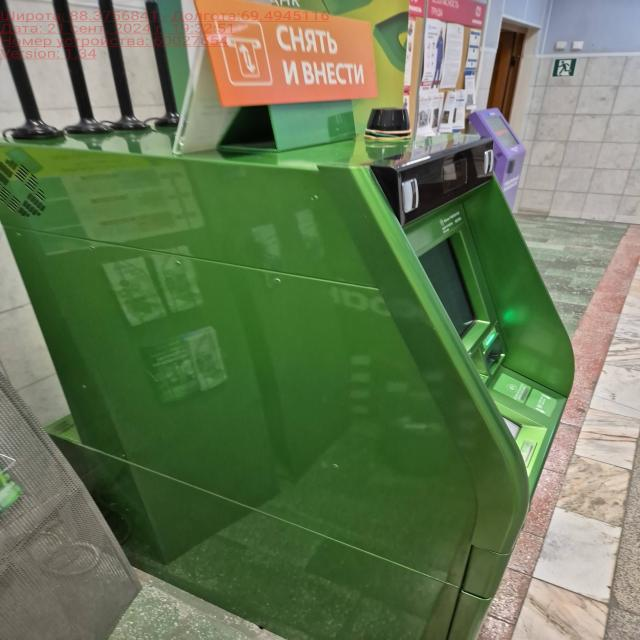bank: (0, 102, 577, 640)
